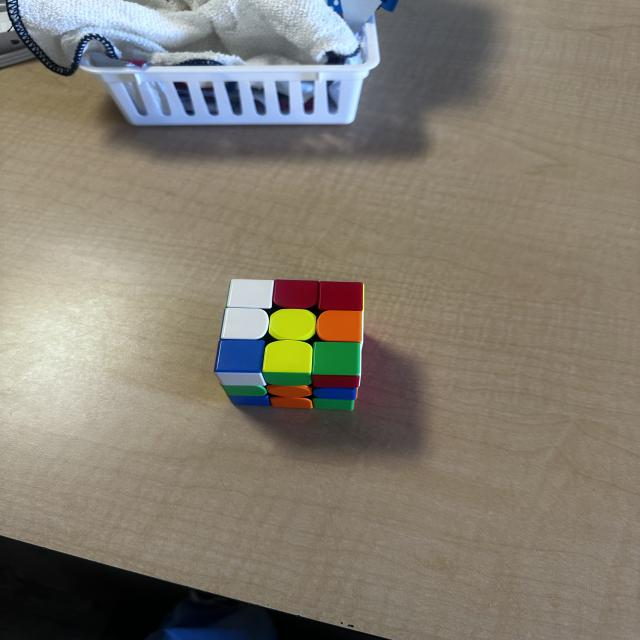sticker: (311, 341, 363, 377), (263, 340, 313, 373), (215, 340, 264, 373), (220, 308, 270, 339), (316, 311, 364, 343), (268, 309, 315, 341), (227, 279, 273, 308), (318, 281, 362, 311), (273, 280, 317, 307)
